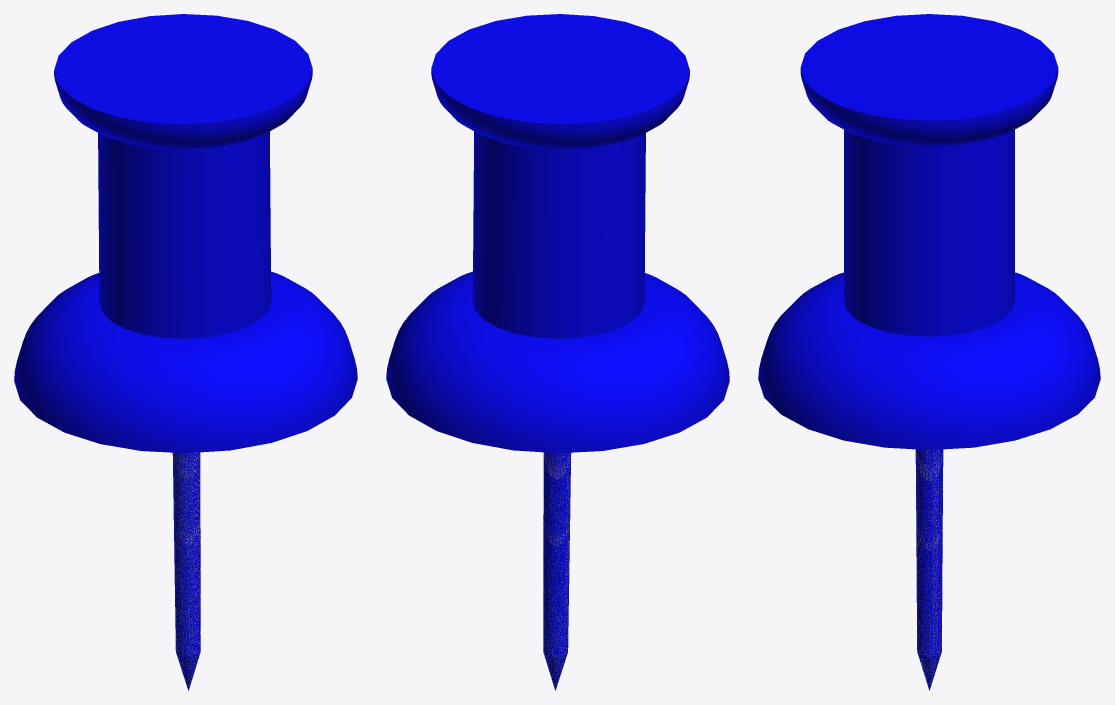
The model's file is pushPinBlue.dae.
3 views of the same model, side by side, from view 1: azimuth 30°, elevation 25°; view 2: azimuth 150°, elevation 25°; view 3: azimuth 270°, elevation 25° (orthographic).
Visible parts, largest first — view 1: SketchUp (×2); view 2: SketchUp (×2); view 3: SketchUp (×2).
Boxes of the visible parts, x1,y1,x2,y2 form: SketchUp (×2): (14,14,357,690); SketchUp (×2): (386,14,729,690); SketchUp (×2): (758,14,1100,690).
Size of the model in its own units: 24 by 24 by 48.09.
